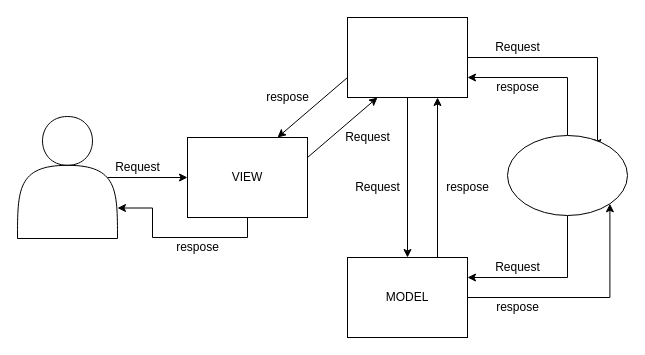
The diagram is 645 pixels wide and 355 high, and some of its shapes have lost their labels. The box of each missing label's shape, as (x1, y1, x2, y2) in pixels:
CONTROLLER: (346, 16, 468, 98)
SERVICE: (506, 134, 628, 216)
